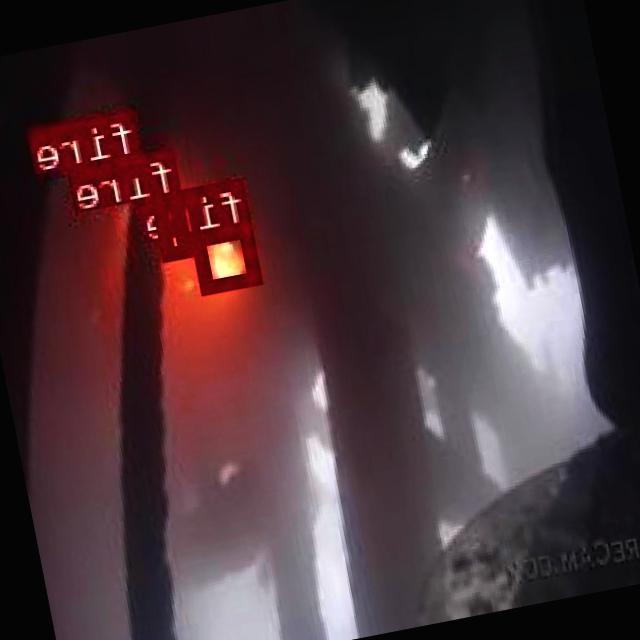fire: (192, 222, 264, 293), (154, 190, 196, 259), (115, 150, 146, 176)
